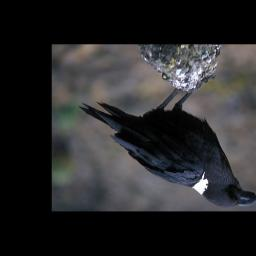Crow: (78, 73, 256, 208)
